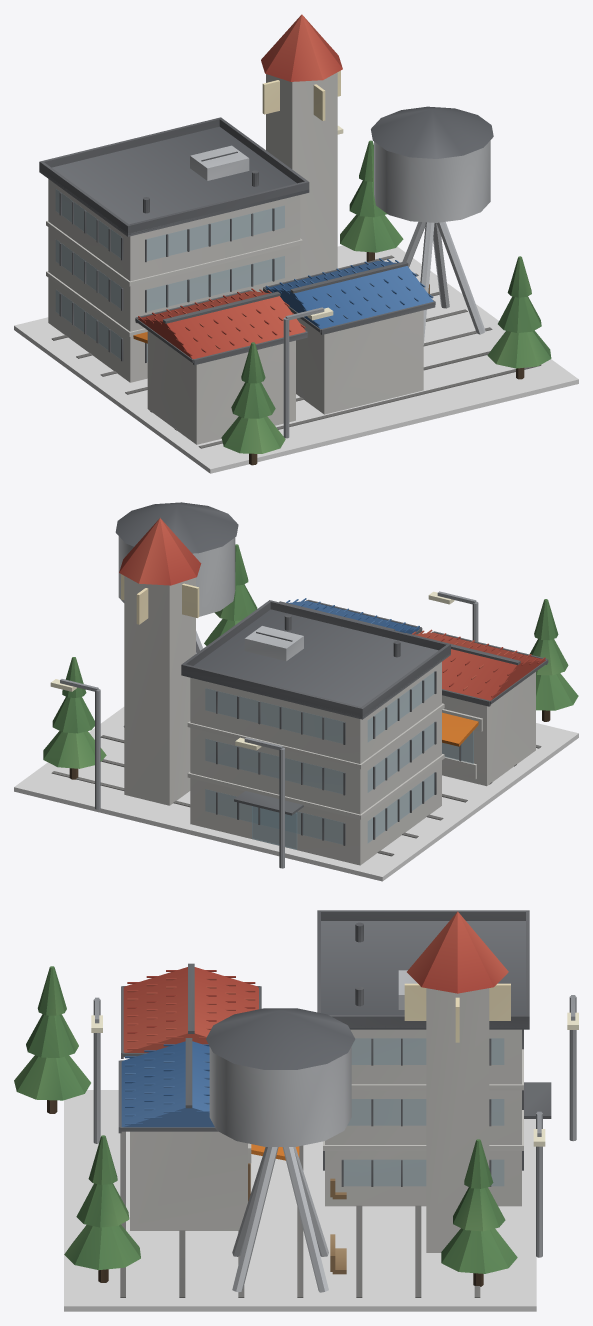
File: Civic_P2.fbx
3 renders of one model, top to bottom at view 1: azimuth 30°, elevation 25°; view 2: azimuth 150°, elevation 25°; view 3: azimuth 270°, elevation 25°, orthographic. The views are drawn at different scales.
Parts seen in each view (by area): view 1: Civic.Hall, Civic.Plaza, Civic.Shop1, Civic.Shop0, Civic.WaterTower, Civic.Tower, Civic.Tree2, Civic.Tree1, Civic.Tree0, Civic.Paving, Civic.Lamp0; view 2: Civic.Hall, Civic.Tower, Civic.Plaza, Civic.Shop0, Civic.WaterTower, Civic.Tree0, Civic.Tree2, Civic.Tree1, Civic.Shop1, Civic.Lamp1, Civic.Lamp2, Civic.Paving (+1 smaller); view 3: Civic.Plaza, Civic.Hall, Civic.WaterTower, Civic.Tower, Civic.Shop1, Civic.Shop0, Civic.Tree2, Civic.Tree0, Civic.Tree1, Civic.Paving, Civic.Lamp0, Civic.Lamp2 (+2 smaller).
Boxes of the visible parts, x1,y1,x2,y2 form: Civic.Hall: [39, 117, 309, 382]; Civic.Plaza: [14, 245, 578, 473]; Civic.Shop1: [263, 258, 435, 414]; Civic.Shop0: [133, 288, 307, 444]; Civic.WaterTower: [371, 106, 493, 344]; Civic.Tower: [261, 14, 342, 278]; Civic.Tree2: [221, 342, 285, 465]; Civic.Tree1: [487, 256, 551, 379]; Civic.Tree0: [340, 140, 403, 261]; Civic.Paving: [51, 255, 541, 448]; Civic.Lamp0: [283, 307, 333, 438]; Civic.Hall: [181, 600, 450, 865]; Civic.Tower: [119, 518, 201, 805]; Civic.Plaza: [14, 707, 578, 881]; Civic.Shop0: [406, 629, 548, 786]; Civic.WaterTower: [115, 502, 238, 727]; Civic.Tree0: [43, 657, 106, 779]; Civic.Tree2: [530, 599, 578, 721]; Civic.Tree1: [204, 544, 257, 645]; Civic.Shop1: [279, 598, 422, 634]; Civic.Lamp1: [50, 679, 100, 809]; Civic.Lamp2: [235, 737, 284, 868]; Civic.Paving: [51, 735, 541, 856]; Civic.Plaza: [64, 1090, 536, 1311]; Civic.Hall: [317, 910, 551, 1206]; Civic.WaterTower: [206, 1008, 355, 1292]; Civic.Tower: [404, 911, 510, 1252]; Civic.Shop1: [118, 1038, 299, 1230]; Civic.Shop0: [121, 963, 261, 1058]; Civic.Tree2: [14, 966, 90, 1113]; Civic.Tree0: [441, 1139, 517, 1286]; Civic.Tree1: [64, 1135, 140, 1282]; Civic.Paving: [120, 1131, 480, 1297]; Civic.Lamp0: [91, 997, 102, 1143]; Civic.Lamp2: [567, 995, 578, 1141].
Bounding box in the file's own units: 2600 × 1871 × 2870.
